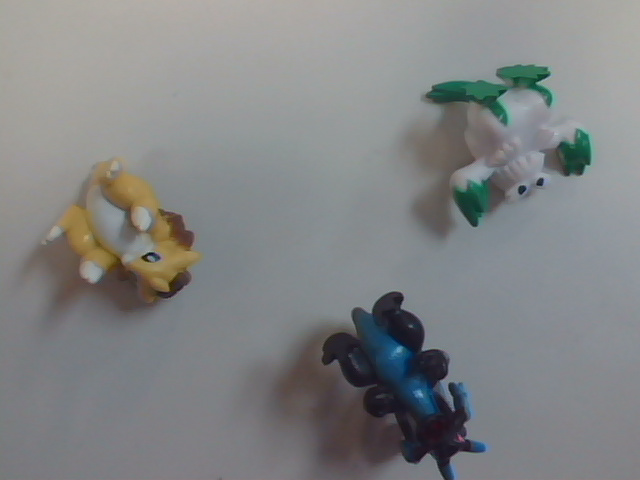abomasnow: (410, 51, 622, 245)
charizard: (305, 278, 525, 480)
sandslash: (41, 133, 223, 328)
